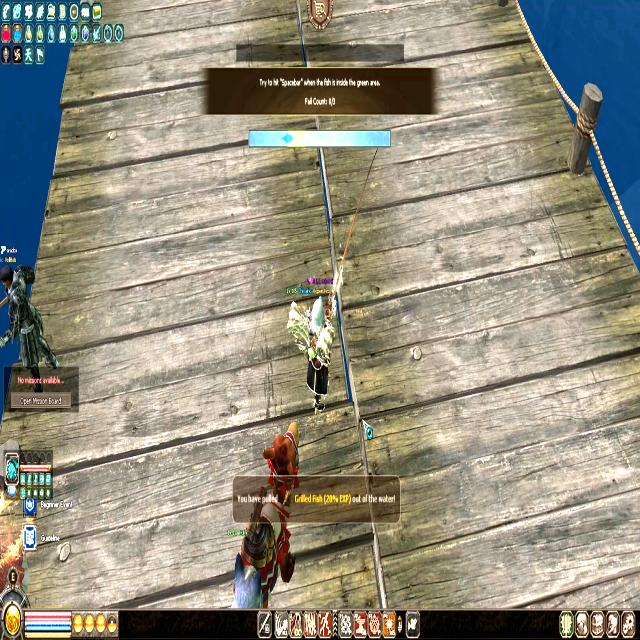fishes: (282, 132, 293, 146)
